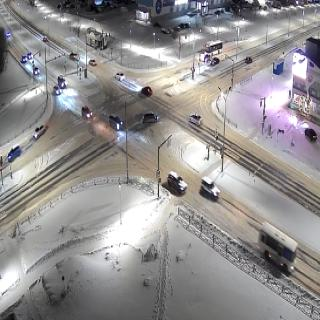large-vehicle: (261, 222, 297, 274), (204, 40, 224, 58)
small-vehicle: (167, 169, 186, 197), (200, 175, 220, 198), (108, 112, 122, 134), (189, 108, 202, 128), (142, 111, 158, 126), (30, 124, 48, 137), (80, 103, 92, 121), (70, 46, 80, 64), (141, 85, 153, 98), (115, 67, 126, 81), (20, 54, 30, 69), (7, 152, 23, 161), (88, 57, 98, 70), (32, 67, 42, 79), (241, 56, 253, 66), (27, 48, 34, 64), (58, 76, 67, 88), (52, 85, 60, 98), (5, 27, 12, 39), (210, 58, 220, 66)
